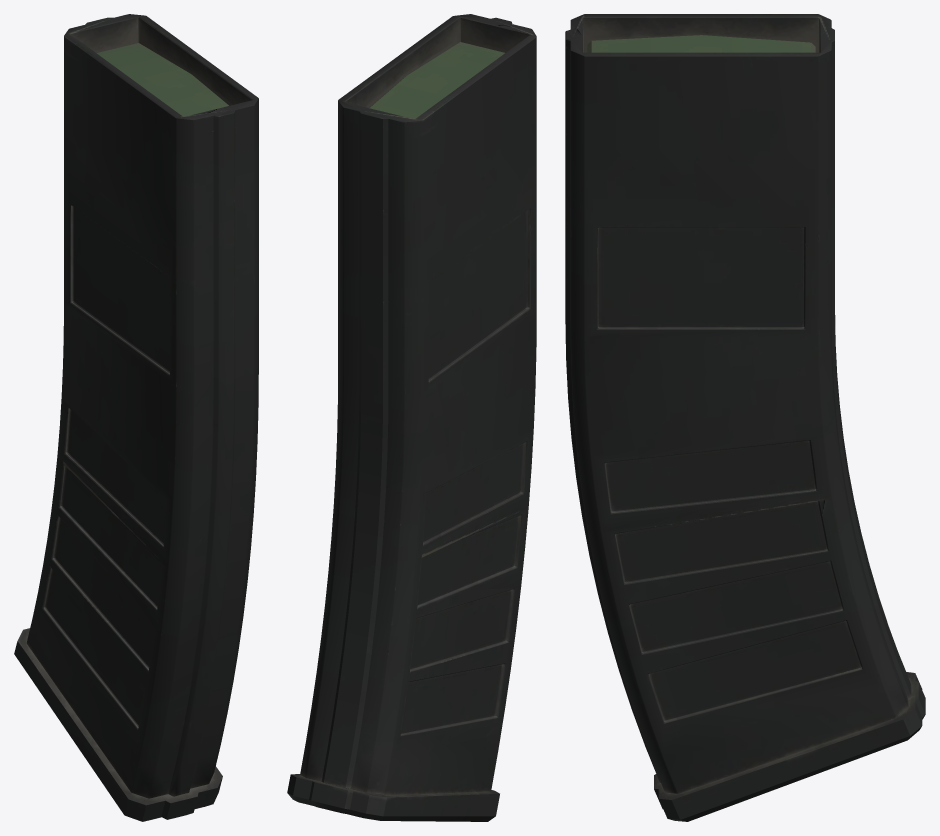
Rendered from carregador_556_30.glb.
The picture shows the model from 3 angles, left to right: view 1: azimuth 30°, elevation 25°; view 2: azimuth 150°, elevation 25°; view 3: azimuth 270°, elevation 25°; orthographic projection. The views are drawn at different scales.
Parts seen in each view (by area): view 1: carregador_556_30_carregador; view 2: carregador_556_30_carregador; view 3: carregador_556_30_carregador.
Part boxes in pixels (bbox=[...]): carregador_556_30_carregador: bbox=[14, 14, 258, 821]; carregador_556_30_carregador: bbox=[287, 14, 536, 821]; carregador_556_30_carregador: bbox=[565, 14, 925, 821].
Bounding box in the file's own units: 0.0264 × 0.1977 × 0.0836.
1 material, 1 textured.
